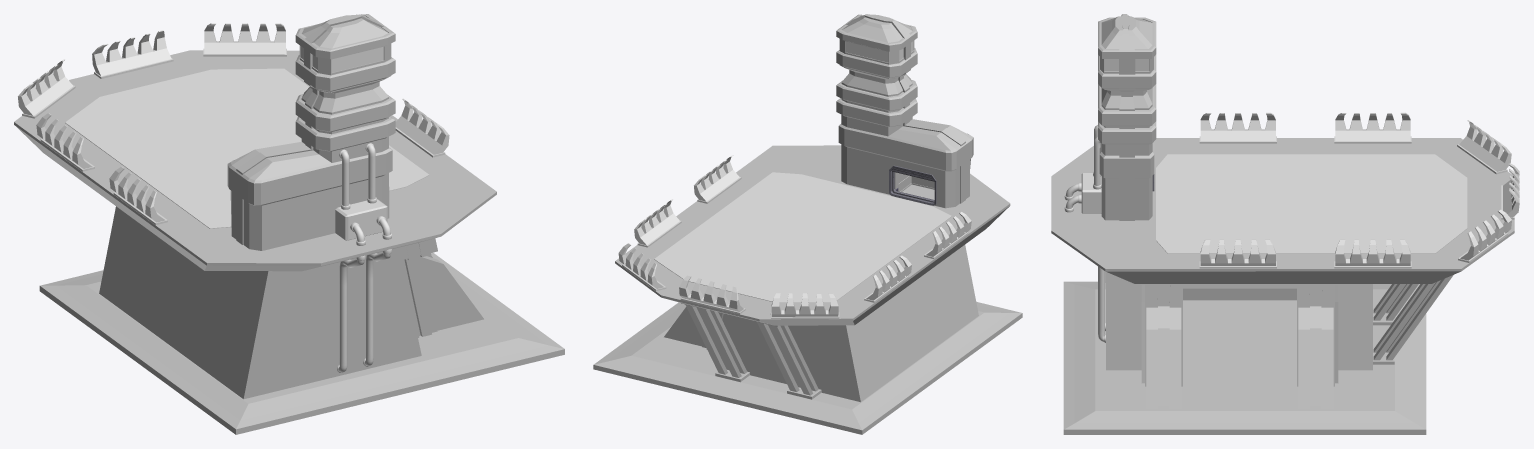
Rendered from Spaceship_landing_base.fbx.
The picture shows the model from 3 angles, left to right: view 1: azimuth 30°, elevation 25°; view 2: azimuth 150°, elevation 25°; view 3: azimuth 270°, elevation 25°; orthographic projection. The views are drawn at different scales.
Parts seen in each view (by area): view 1: Cube.001, Cylinder, Cylinder.019, Cube.003, Cube.005, Cube.009, Cube.023, Cube.021, Cube.011, Cube.006, Cube.007, Cube.008 (+9 smaller); view 2: Cylinder.019, Cube.001, Cube.003, Cylinder, Cube.005, Cube.009, Cube.026, Cube.014, Cube.022, Cube.023, Cube.011, Cube.006 (+11 smaller); view 3: Cube.003, Cylinder.019, Cylinder, Cube.001, Cube.005, Cube.014, Cube.025, Cube.024, Cube.011, Cube.002, Cube.020, Cube.022 (+10 smaller).
Boxes of the visible parts, x1,y1,x2,y2 form: Cube.001: (99,206,483,399); Cylinder: (14,50,496,271); Cylinder.019: (65,68,428,228); Cube.003: (39,252,564,434); Cube.005: (230,15,391,250); Cube.009: (227,147,392,205); Cube.023: (92,30,173,78); Cube.021: (203,23,286,56); Cube.011: (236,14,383,244); Cube.006: (295,94,395,131); Cube.007: (295,116,395,151); Cube.008: (295,55,395,91); Cylinder.019: (654,172,951,302); Cube.001: (664,244,978,402); Cube.003: (593,302,1022,434); Cylinder: (615,145,1010,325); Cube.005: (839,14,970,208); Cube.009: (838,124,973,171); Cube.026: (757,322,818,395); Cube.014: (685,304,747,377); Cube.022: (770,293,839,319); Cube.023: (679,275,745,314); Cube.011: (846,14,965,203); Cube.006: (836,80,917,110); Cube.003: (1063,281,1426,434); Cylinder.019: (1156,154,1467,253); Cylinder: (1051,138,1514,283); Cube.001: (1105,271,1372,408); Cube.005: (1100,16,1153,220); Cube.014: (1373,275,1453,360); Cube.025: (1199,112,1276,143); Cube.024: (1334,112,1411,143); Cube.011: (1119,14,1135,220); Cube.002: (1199,239,1276,268); Cube.020: (1334,239,1411,268); Cube.022: (1457,120,1511,174).
Bounding box in the file's own units: 2731 × 2770 × 3521.
